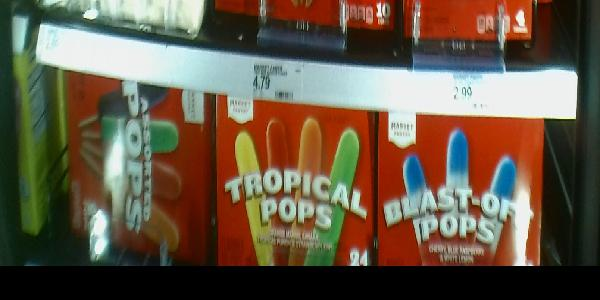icecream: (30, 66, 217, 269), (216, 93, 372, 270), (373, 108, 542, 266)
